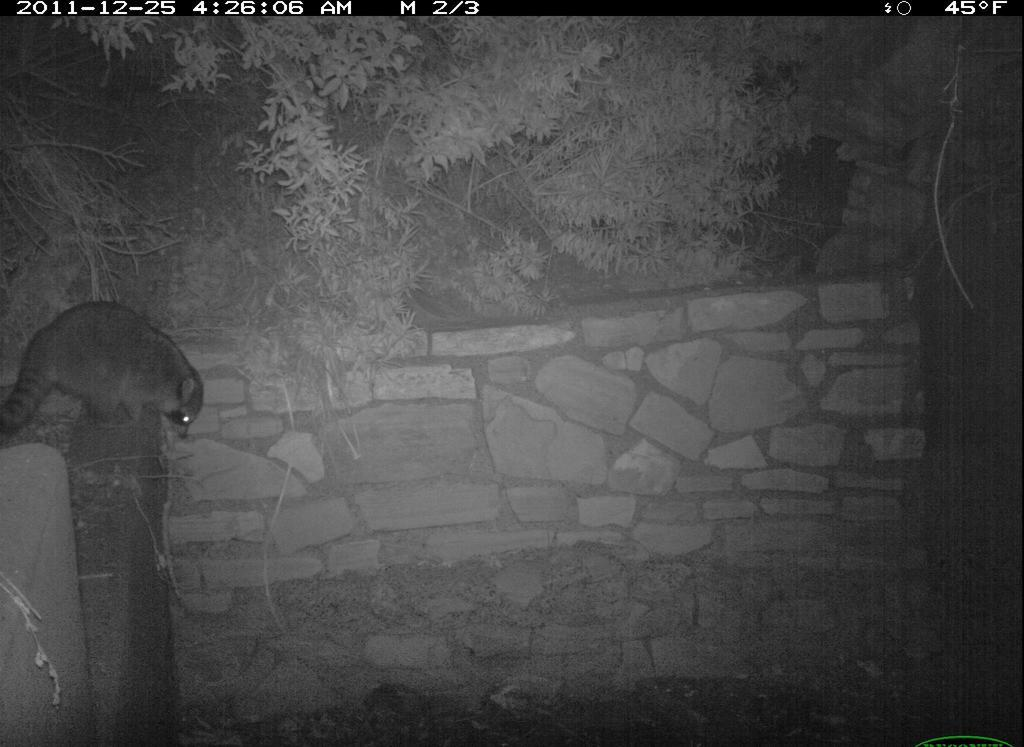raccoon: (3, 286, 210, 457)
